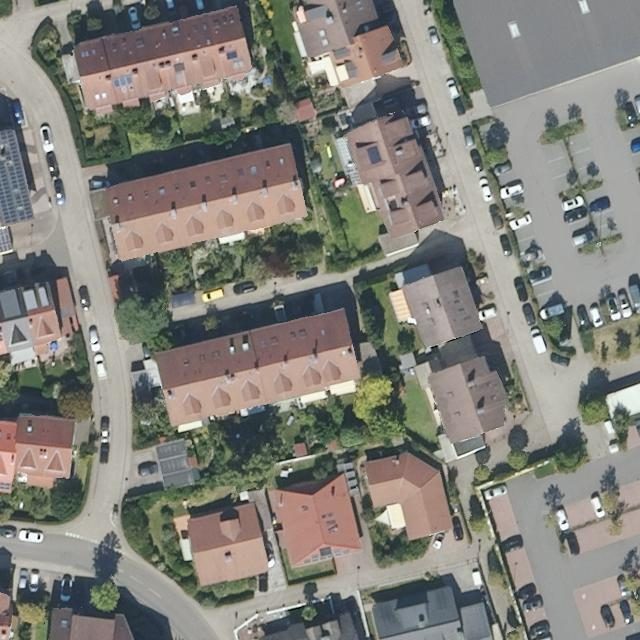PV: (0, 127, 37, 225), (295, 547, 359, 568), (1, 225, 19, 259), (364, 143, 385, 166), (111, 73, 135, 89), (225, 49, 238, 61)
